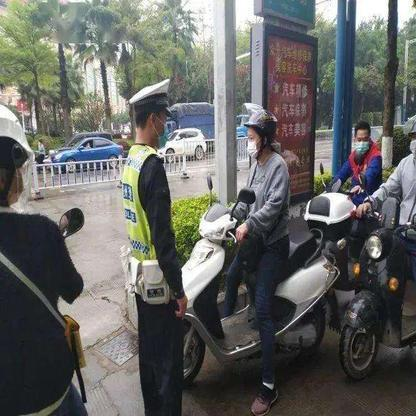target: (175, 103, 336, 382)
